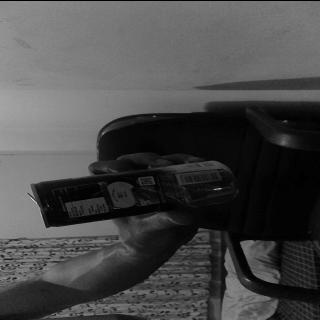alumunium_can: (28, 160, 240, 227)
